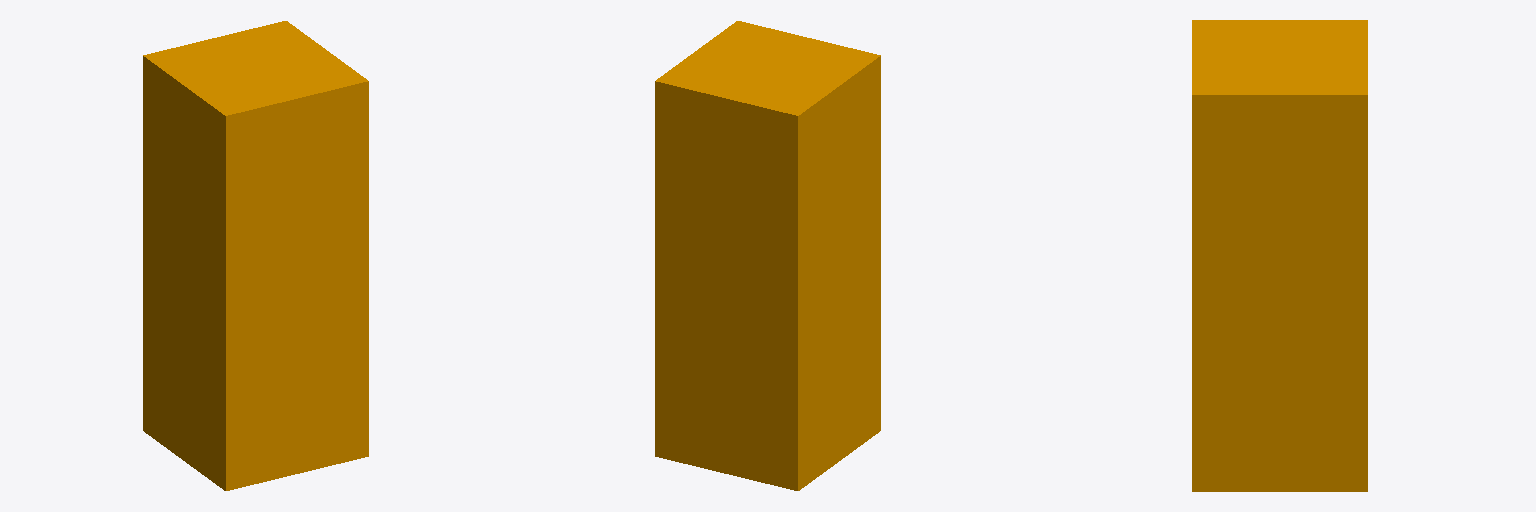
The robot description file, URDF, robot "boxA":
<?xml version="1.0"?>
<robot name="boxA">
  <material name="Wood">
    <color rgba="0.827 0.675 0.463 1.0"/>
  </material>
  <material name="Color">
    <color rgba="0.631, 0.125, 0.125, 1.0"/>
  </material>
  <material name="Metal">
    <color rgba="0.718, 0.753, 0.749, 1.0"/>
  </material>
  <link name="base_link">
     <inertial>
      <mass value="0.5" />
      <!-- center of mass (com) is defined w.r.t. link local coordinate system -->
      <origin xyz="0 0 0" />
      <inertia  ixx="0.01" ixy="0.0"  ixz="0.0"  iyy="0.01"  iyz="0.0"  izz="0.01" />
    </inertial>
    <visual>
      <origin xyz="0 0 0" rpy="0 0 0" />
      <geometry>
        <box size="0.06 0.06 0.15" />
      </geometry>
      <material name="Color"/>
    </visual>
    <collision>
      <origin xyz="0 0 0" rpy="0 0 0" />
      <geometry>
        <box size="0.06 0.06 0.15" />
      </geometry>
    </collision>
  </link>
</robot>

--- Facts derived from the render (not from the file) ---
3 views of the same robot in one strip: view 1: azimuth 30°, elevation 25°; view 2: azimuth 150°, elevation 25°; view 3: azimuth 270°, elevation 25° (orthographic).
Robot: boxA — 1 links, 0 joints (none); root link base_link; default pose: all joints at 0.
Links seen in each view (by area): view 1: base_link; view 2: base_link; view 3: base_link.
Boxes of the visible links, x1,y1,x2,y2 form: base_link: (143,21,368,490); base_link: (655,21,880,490); base_link: (1192,20,1367,491).
Bounding box of the posed robot: 0.06 × 0.06 × 0.15 m (x, y, z).
Geometry: primitives only (box / cylinder / sphere), no mesh files.
